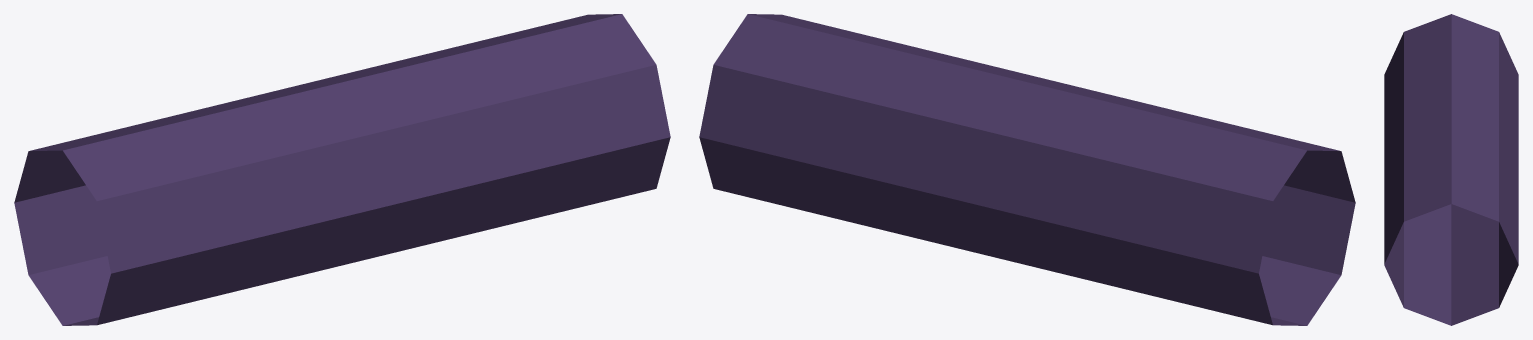
Rendered from Pipe.fbx.
The picture shows the model from 3 angles, left to right: view 1: azimuth 30°, elevation 25°; view 2: azimuth 150°, elevation 25°; view 3: azimuth 270°, elevation 25°; orthographic projection. The views are drawn at different scales.
Visible parts, largest first — view 1: Cylinder.001; view 2: Cylinder.001; view 3: Cylinder.001.
Part boxes in pixels (x1,y1,x2,y2): Cylinder.001: [14, 14, 670, 325]; Cylinder.001: [699, 14, 1355, 325]; Cylinder.001: [1384, 14, 1518, 325].
Size of the model in its own units: 1000 by 300 by 300.
